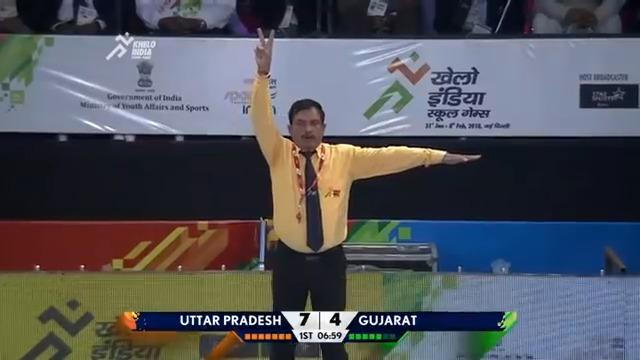referee: (246, 27, 482, 358)
